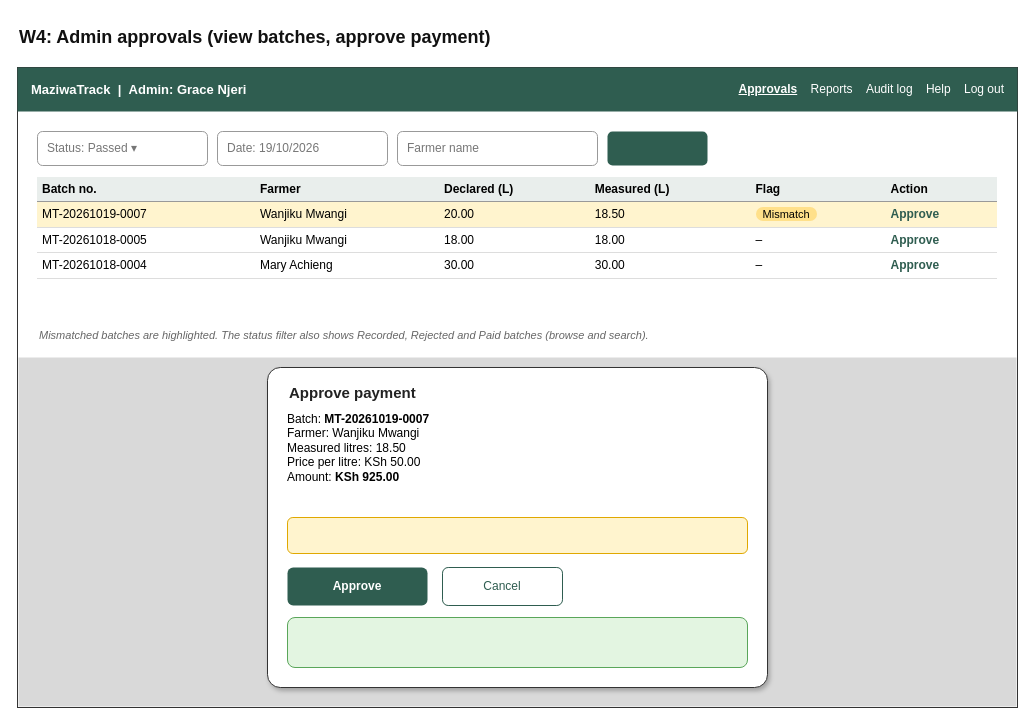
The diagram is 1035 pixels wide and 725 high, and some of its shapes have lost their labels. The centre of each missing label's shape, as x and y in pixels:
After approval: 'Payment approved. Ref PAY-20261019-0012. Email sent to farmer.': point (517, 642)
Filter: point (657, 148)
Litres differ from the declared amount. Payment is on measured litres.: point (517, 535)
